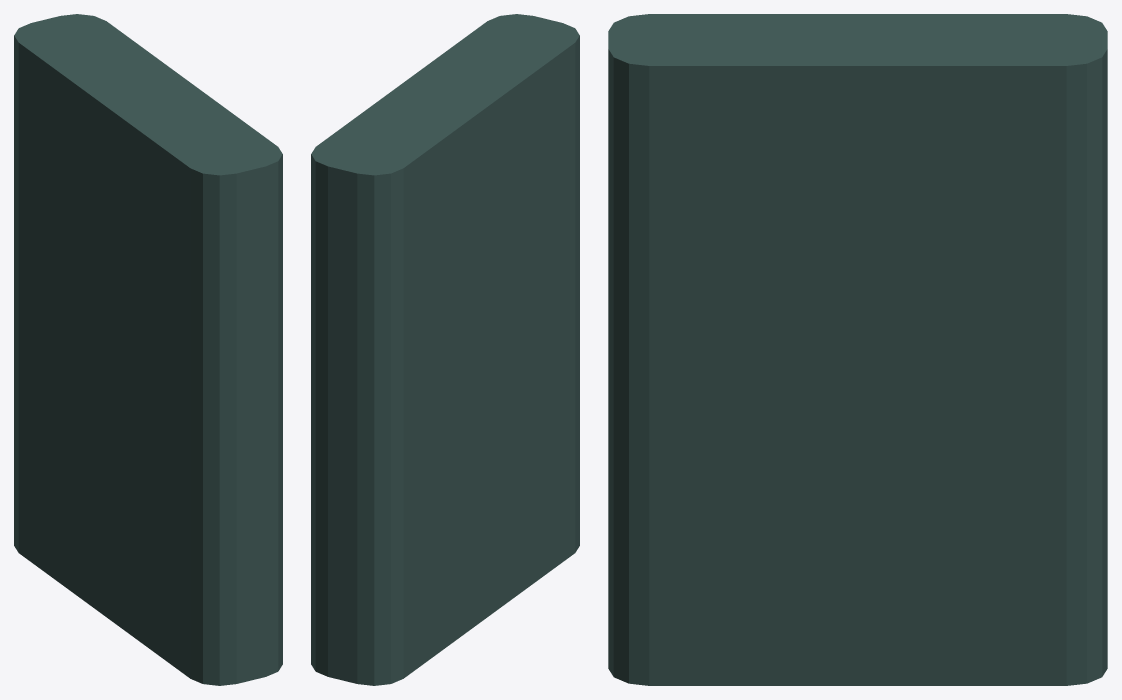
File: Bridge_Anchor.gltf
The picture shows the model from 3 angles, left to right: view 1: azimuth 30°, elevation 25°; view 2: azimuth 150°, elevation 25°; view 3: azimuth 270°, elevation 25°; orthographic projection. The views are drawn at different scales.
Visible parts, largest first — view 1: Bridge_Anchor_baked; view 2: Bridge_Anchor_baked; view 3: Bridge_Anchor_baked.
Part boxes in pixels (x1,y1,x2,y2): Bridge_Anchor_baked: [14, 14, 282, 685]; Bridge_Anchor_baked: [311, 14, 579, 685]; Bridge_Anchor_baked: [608, 14, 1107, 685].
Size of the model in its own units: 0.18 by 1 by 0.73.
